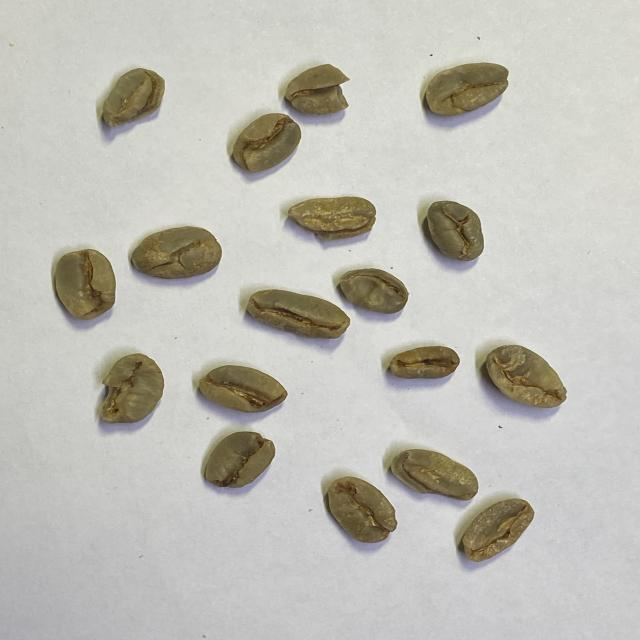bad: (245, 288, 352, 343), (484, 342, 570, 410), (130, 225, 223, 280), (326, 475, 399, 545), (389, 448, 481, 503), (424, 61, 511, 118), (461, 497, 536, 563), (98, 352, 165, 425), (53, 248, 117, 322), (198, 364, 289, 415), (202, 430, 278, 490), (230, 112, 303, 173), (287, 196, 378, 244), (100, 66, 166, 130), (425, 199, 486, 263), (283, 62, 353, 117), (339, 266, 410, 316), (387, 345, 461, 380)
